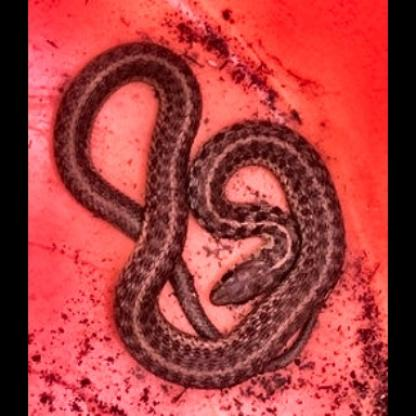Snake: (55, 37, 346, 390)
